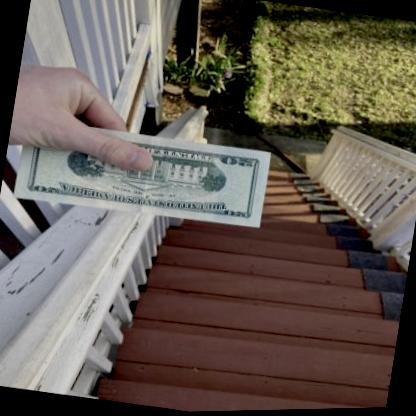twenty-back: (14, 114, 271, 236)
